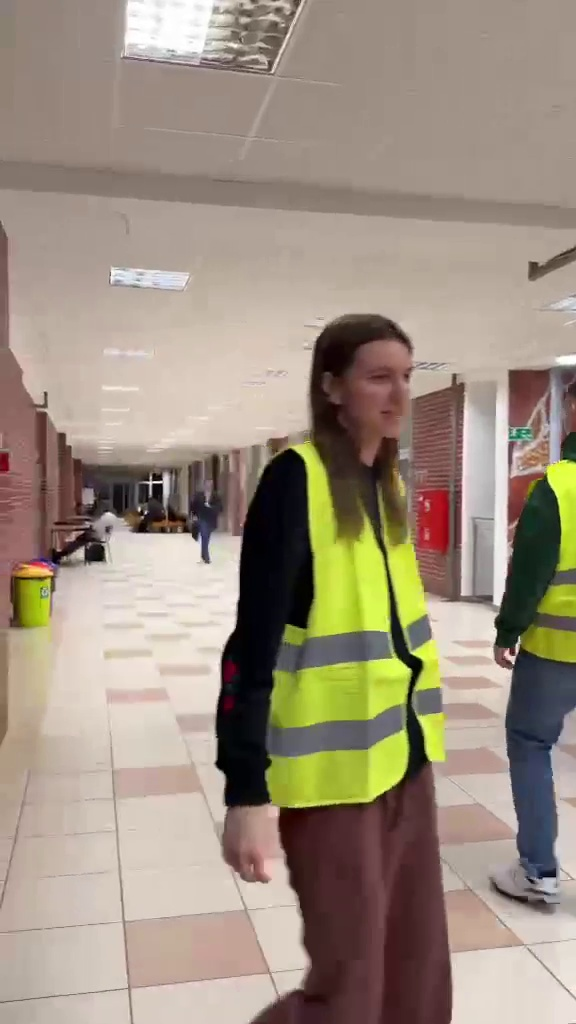vest: (223, 303, 453, 1018), (498, 374, 576, 904)
